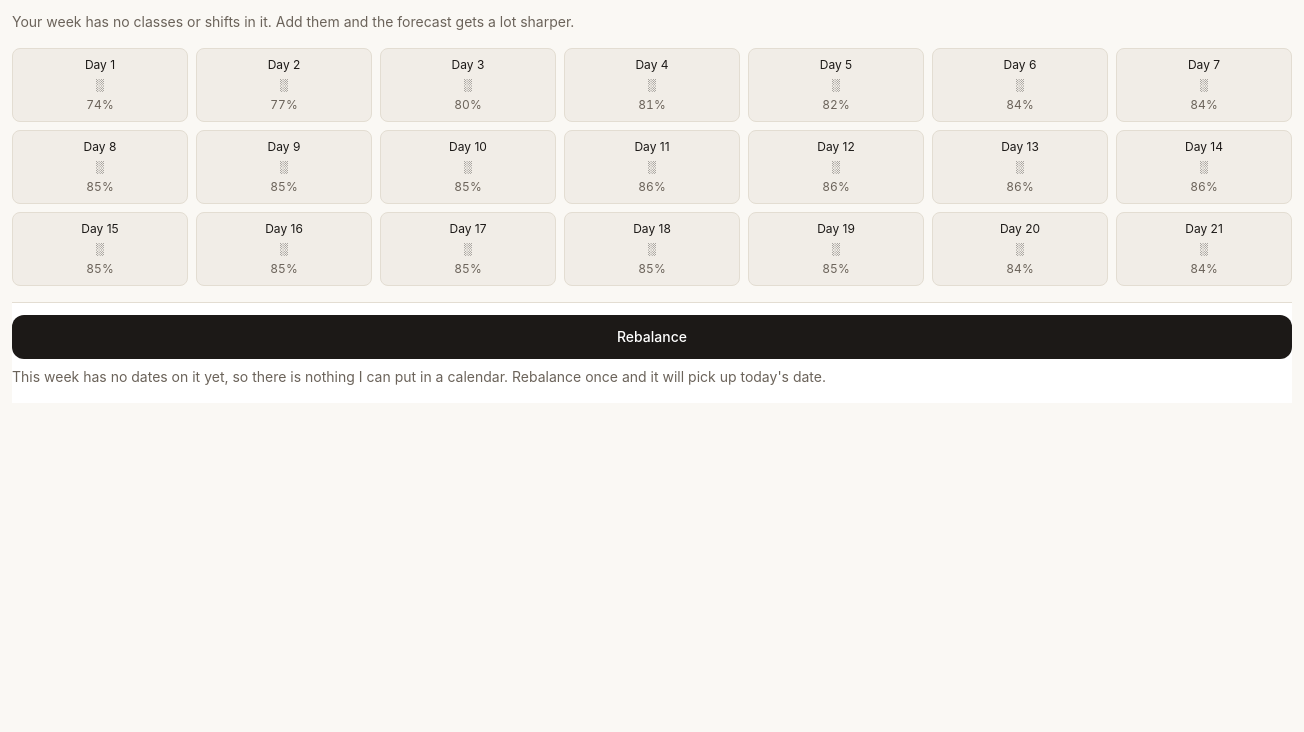
Test case: WeekScreen › marks protected rest with both the glyph and the word, not the glyph alone
Click the button with test id "day-3".
click(652, 85)  # box [564,48,740,122]
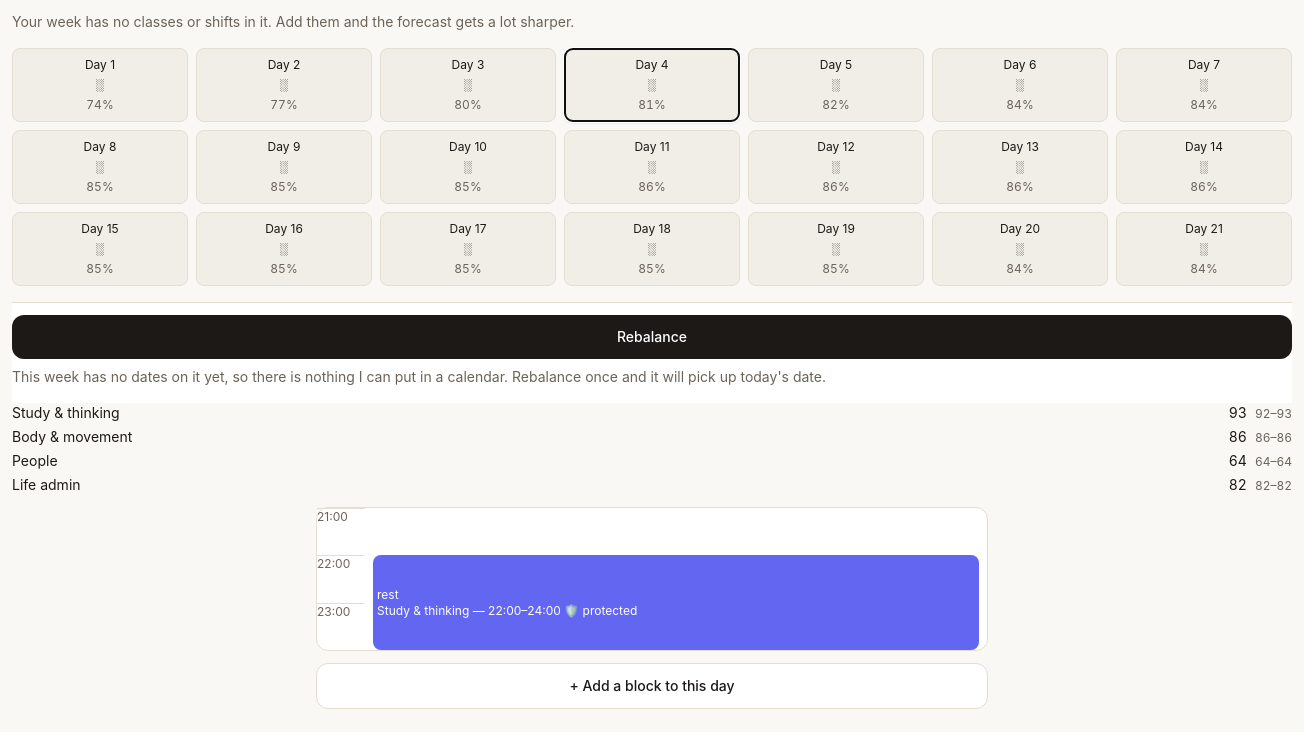
Check: the button with test id "block-rest" shows "🛡", box [373,555,979,650]
Check: the button with test id "block-rest" shows "protected", box [373,555,979,650]
